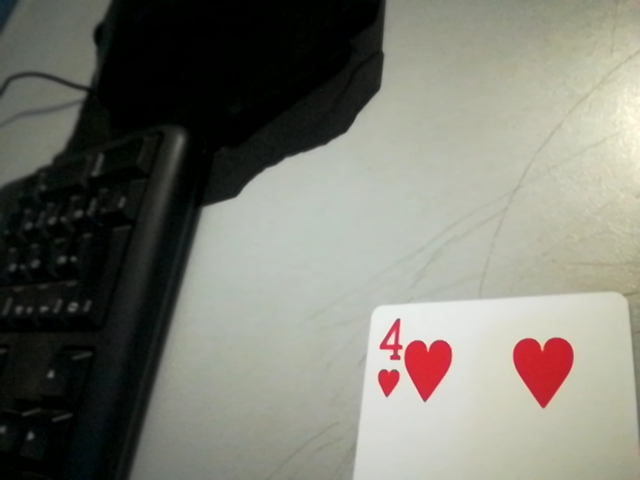hx 4: (365, 315, 409, 404)
